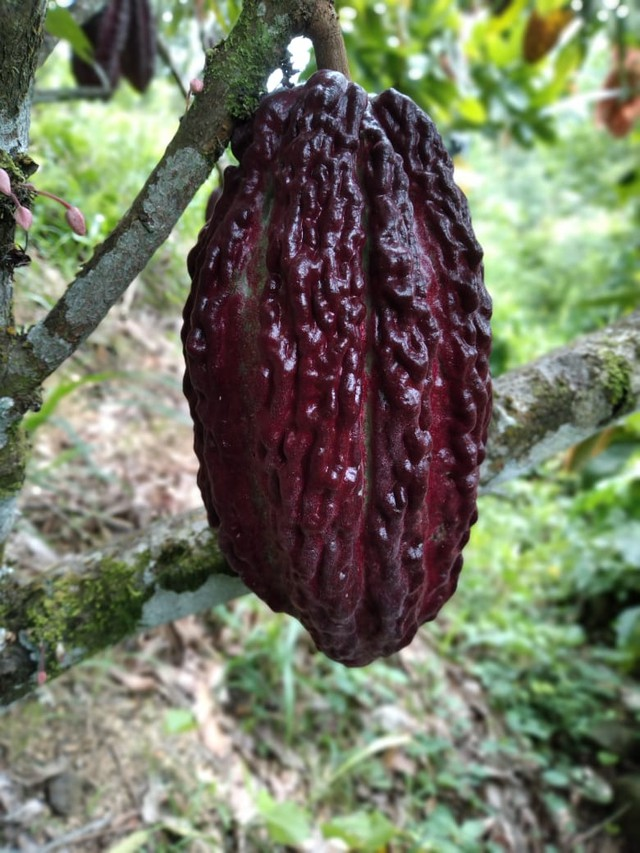Health: (176, 66, 500, 666)
